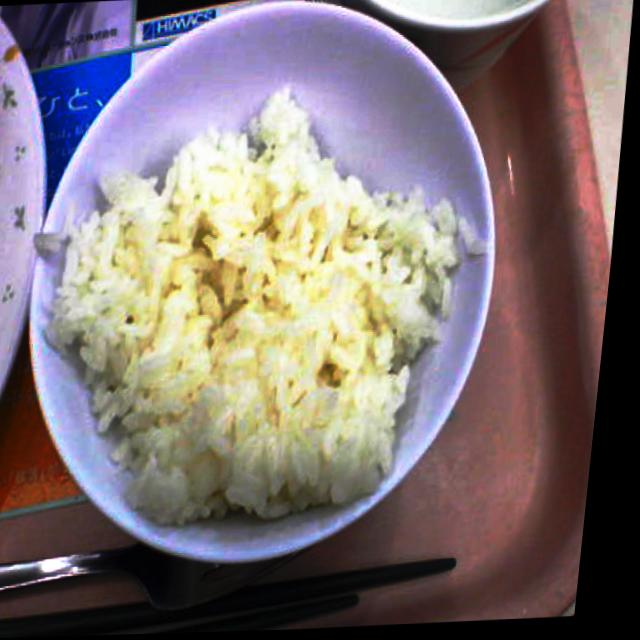rice: (0, 72, 508, 534)
